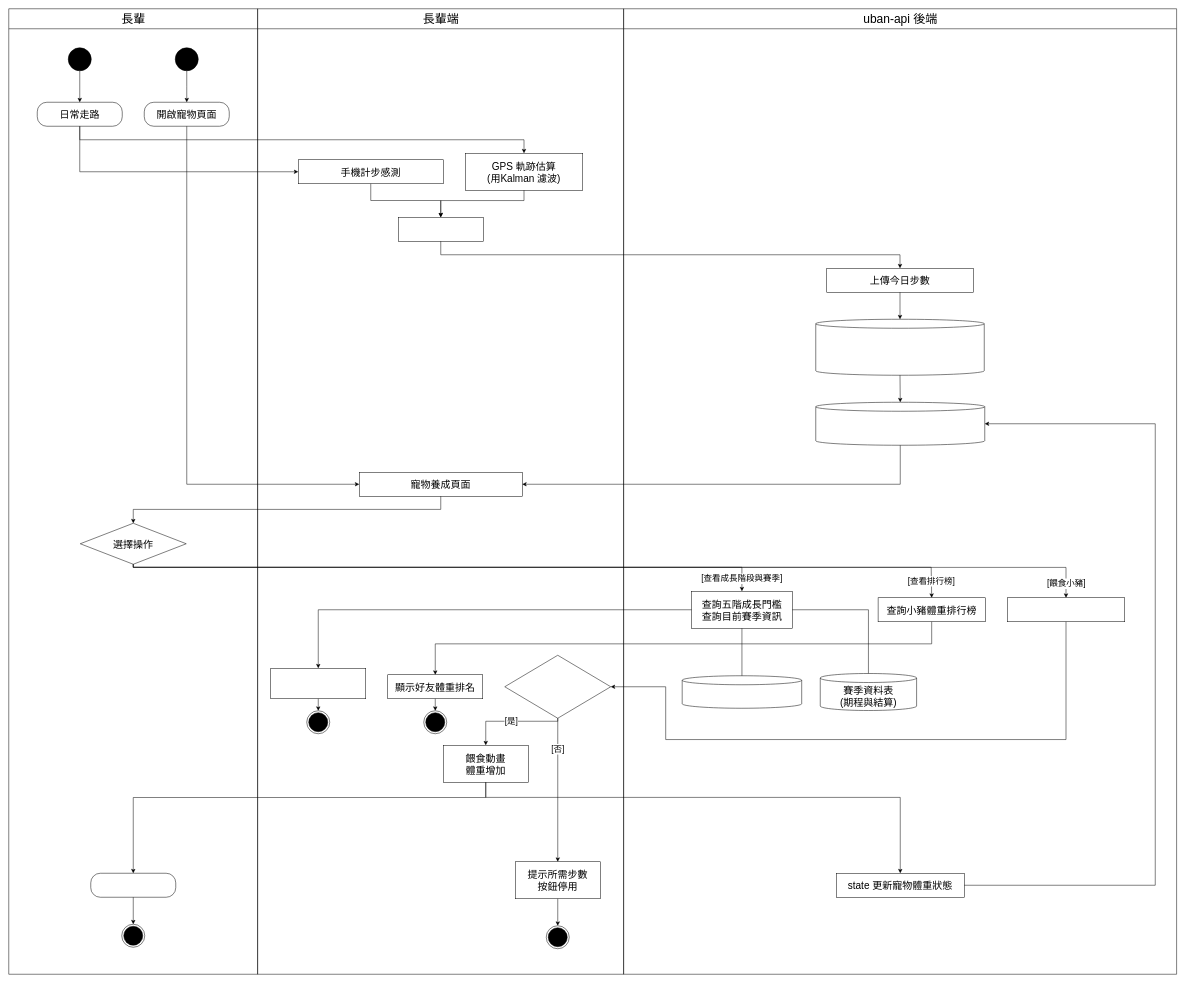
The diagram is 1186 pixels wide and 983 high, and some of its shapes have lost their labels. The centre of each missing label's shape, as x and y in pixels:
"兩者取最大值" goes at (x=440, y=229).
"寵物資料表" goes at (x=900, y=423).
"成長階段門檻表" goes at (x=742, y=691).
"查詢今日進度 （步數・服藥・運動）" goes at (x=1066, y=609).
"檢查食物是否解鎖" goes at (x=557, y=686).
"步數資料表 (本次累計與過往累計步數)" goes at (x=899, y=347).
"看見小豬長大" goes at (x=133, y=885).
"顯示成長階段門檻 與賽季剩餘天數" goes at (x=318, y=683).
